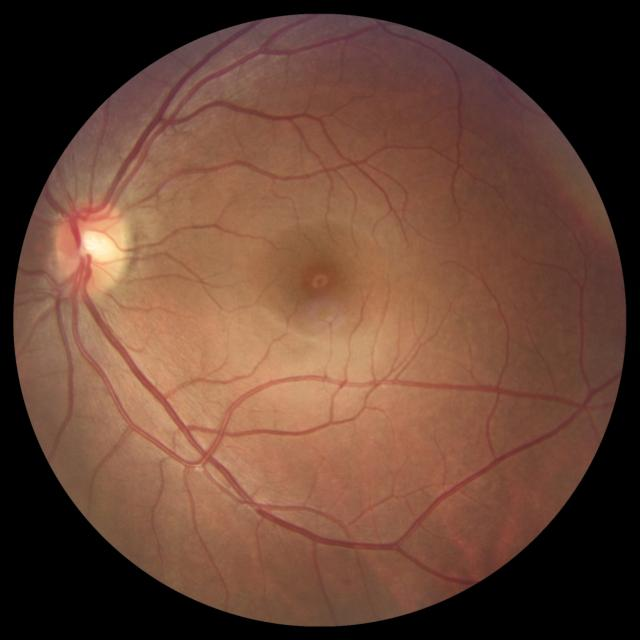OC: (76, 227, 112, 264)
OD: (56, 199, 132, 296)
